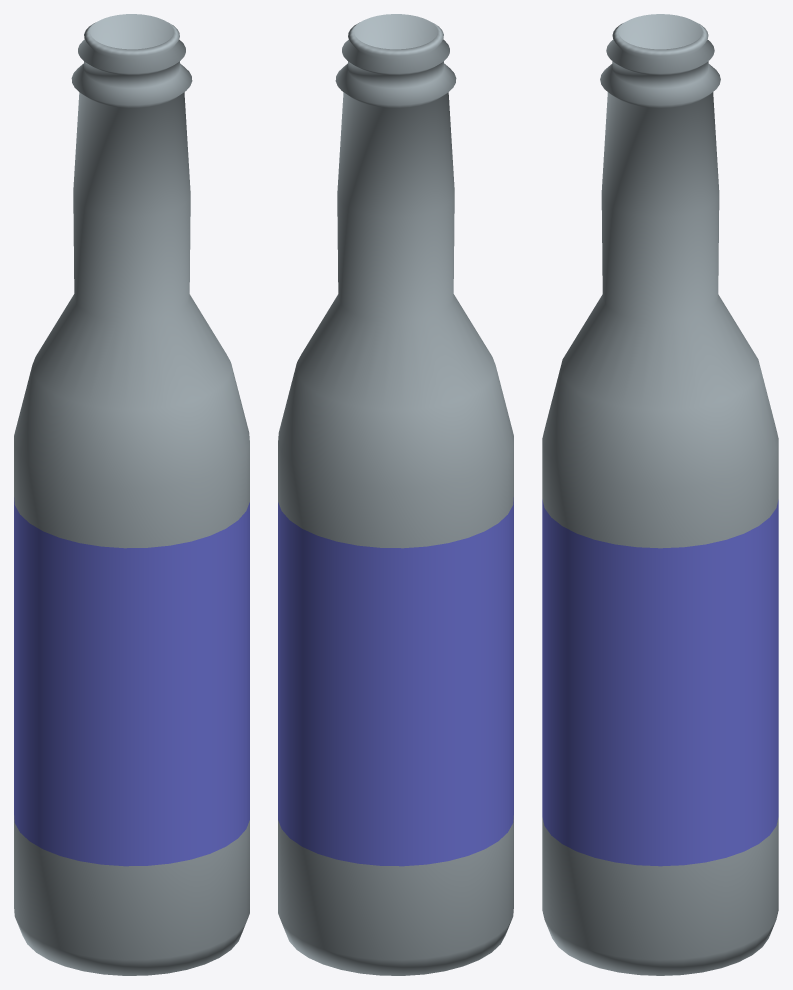
Rendered from Blueberry_bottle.fbx.
The picture shows the model from 3 angles, left to right: view 1: azimuth 30°, elevation 25°; view 2: azimuth 150°, elevation 25°; view 3: azimuth 270°, elevation 25°; orthographic projection.
Visible parts, largest first — view 1: Cylinder.001; view 2: Cylinder.001; view 3: Cylinder.001.
Boxes of the visible parts, left/top/right/bottom form: Cylinder.001: left=14, top=14, right=249, bottom=975; Cylinder.001: left=278, top=14, right=513, bottom=975; Cylinder.001: left=542, top=14, right=778, bottom=975.
Bounding box in the file's own units: 9.8 × 41.04 × 9.8.
